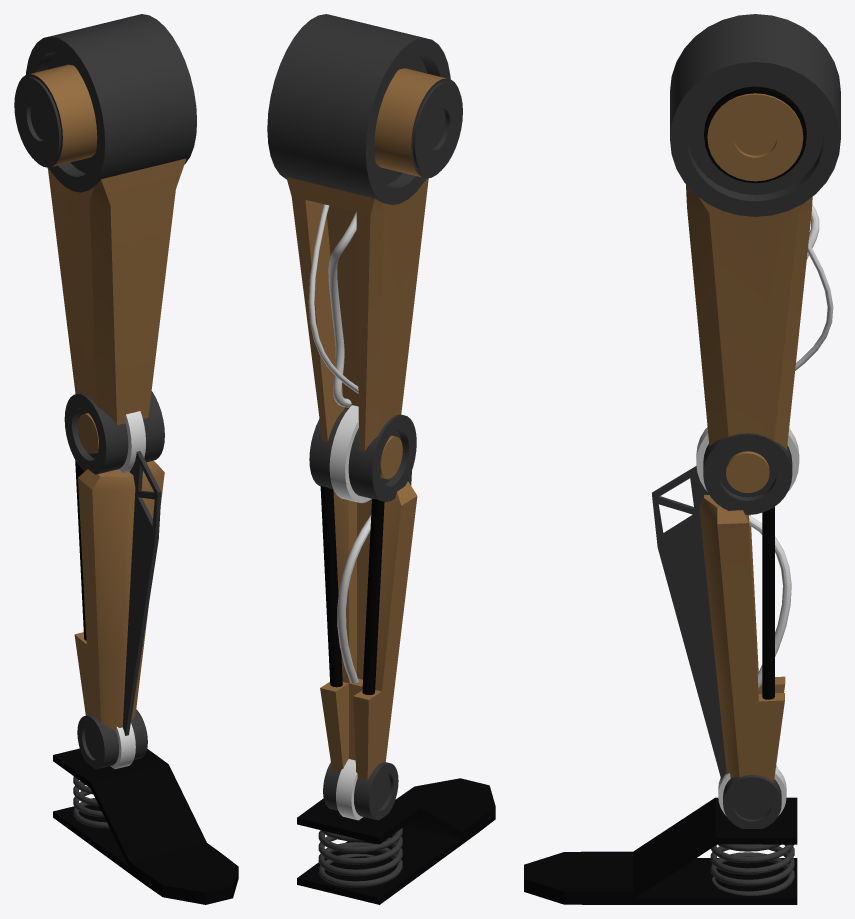
The model's file is Leg_left.fbx.
3 renders of one model, left to right at view 1: azimuth 30°, elevation 25°; view 2: azimuth 150°, elevation 25°; view 3: azimuth 270°, elevation 25°, orthographic. The views are drawn at different scales.
Parts seen in each view (by area): view 1: Leg_left; view 2: Leg_left; view 3: Leg_left.
Part boxes in pixels (box(x1,y1,x2,y2)): Leg_left: box(14, 14, 238, 904); Leg_left: box(267, 14, 495, 904); Leg_left: box(524, 14, 840, 904).
Size of the model in its own units: 0.1593 by 1 by 0.339.
